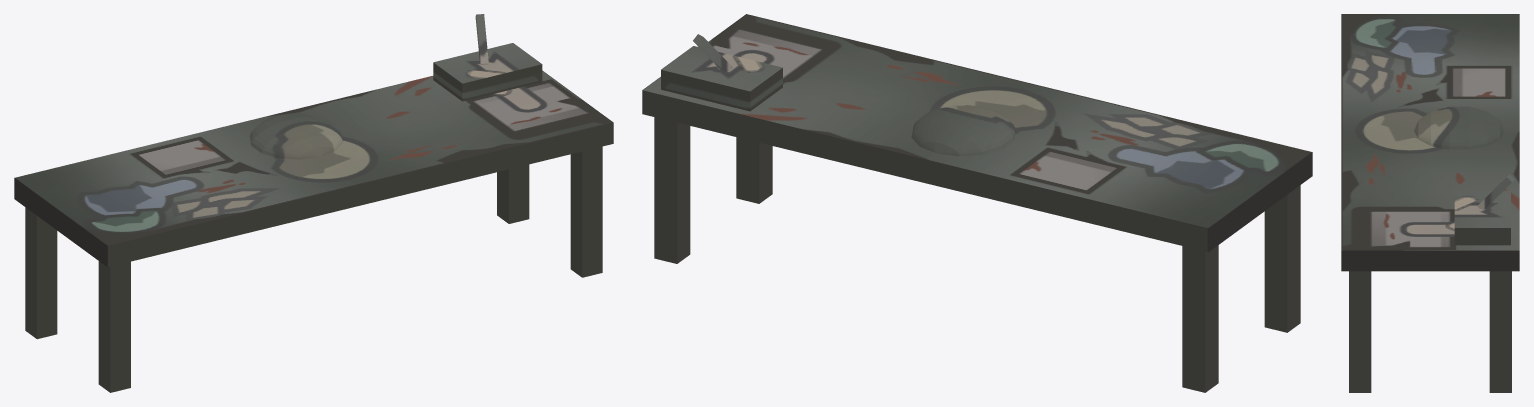
File: Building_AncientTableDrugLab.glb
3 views of the same model, side by side, from view 1: azimuth 30°, elevation 25°; view 2: azimuth 150°, elevation 25°; view 3: azimuth 270°, elevation 25° (orthographic). The views are drawn at different scales.
Parts seen in each view (by area): view 1: AncientTableDrugLab; view 2: AncientTableDrugLab; view 3: AncientTableDrugLab.
Boxes of the visible parts, box(x1,y1,x2,y2) form: AncientTableDrugLab: box(14, 14, 613, 392); AncientTableDrugLab: box(642, 14, 1312, 392); AncientTableDrugLab: box(1341, 14, 1519, 392).
Bounding box in the file's own units: 2.97 × 1.16 × 0.9453.
Materials: 1 (1 with a texture image).
